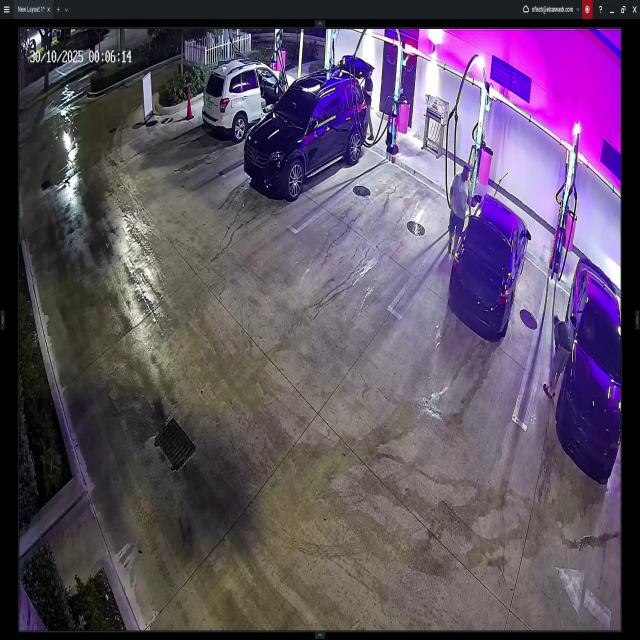Car: (242, 61, 372, 201), (556, 250, 621, 482), (449, 189, 532, 340), (200, 58, 296, 142)
